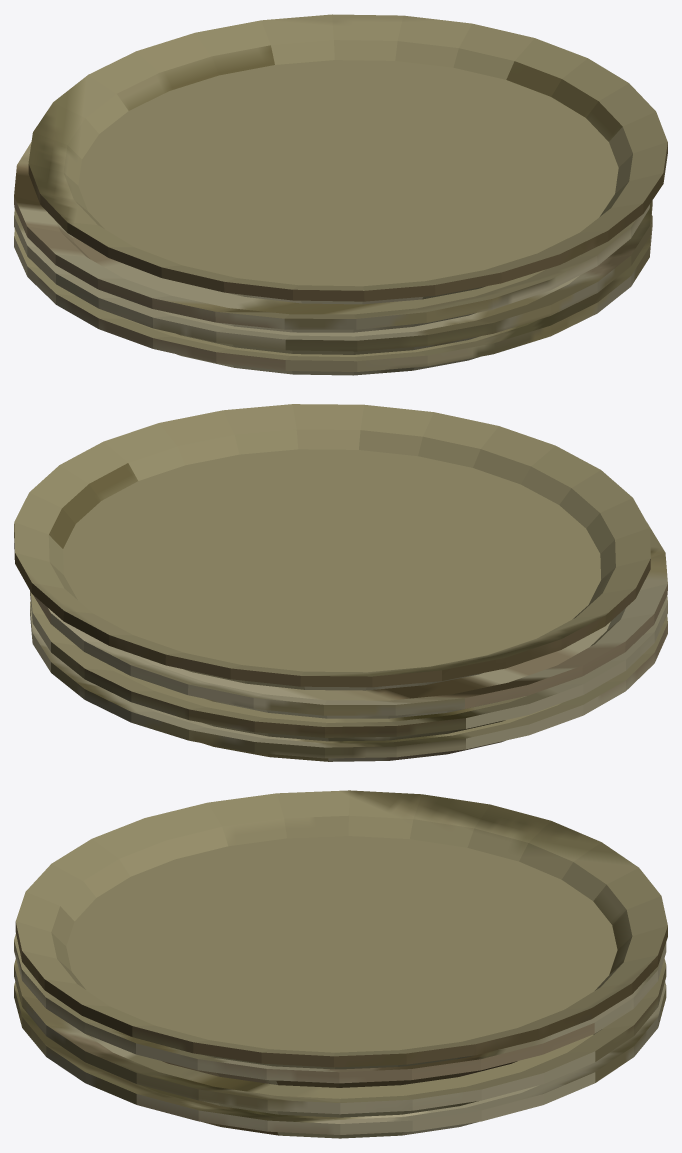
File: SM_plates2.fbx
3 renders of one model, top to bottom at view 1: azimuth 30°, elevation 25°; view 2: azimuth 150°, elevation 25°; view 3: azimuth 270°, elevation 25°, orthographic.
Visible parts, largest first — view 1: SM_platestackj; view 2: SM_platestackj; view 3: SM_platestackj.
Part boxes in pixels (bbox=[...]): SM_platestackj: bbox=[14, 14, 667, 375]; SM_platestackj: bbox=[14, 404, 667, 761]; SM_platestackj: bbox=[14, 790, 667, 1138].
Size of the model in its own units: 23.21 by 4.25 by 22.62.
